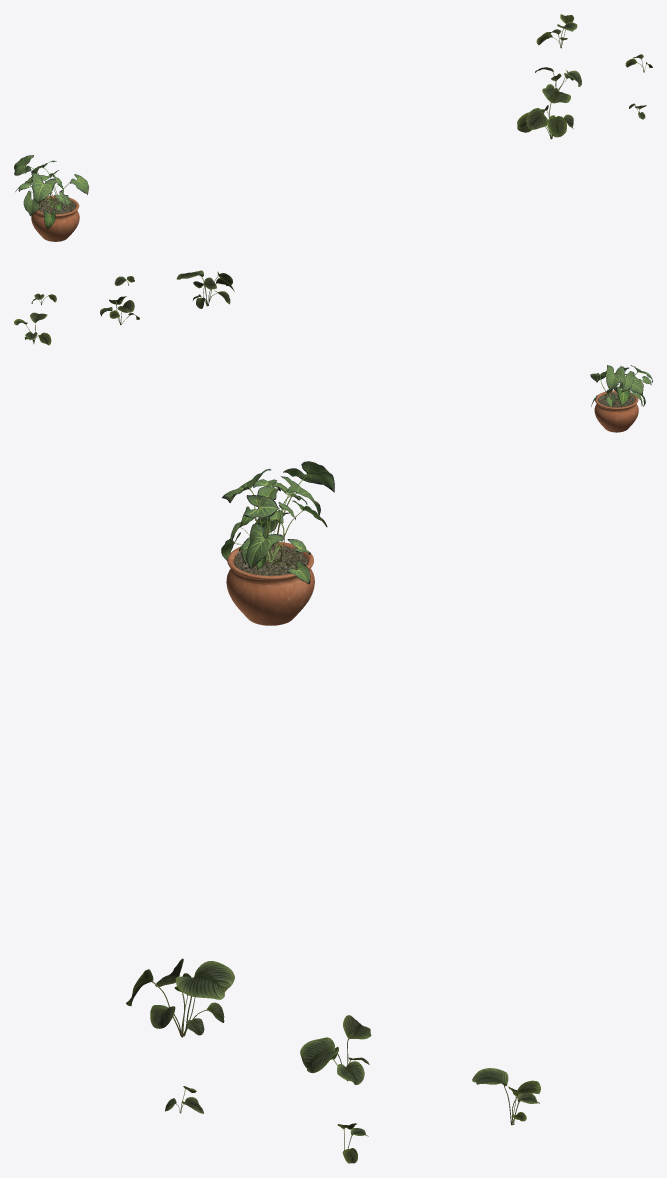
The model's file is room_stocks_props_m.glb.
3 renders of one model, top to bottom at view 1: azimuth 30°, elevation 25°; view 2: azimuth 150°, elevation 25°; view 3: azimuth 270°, elevation 25°, orthographic. The views are drawn at different scales.
Visible parts, largest first — view 1: prop_potted_plant_02_1_potted_plant_02_leaves, prop_calathea_orbifolia_01_2_calathea_orbifolia_01_a, prop_potted_plant_02_1_potted_plant_02_pot, prop_calathea_orbifolia_01_2_calathea_orbifolia_01_c, prop_potted_plant_02_1_potted_plant_02_dirt, prop_calathea_orbifolia_01_2_calathea_orbifolia_01_b; view 2: prop_potted_plant_02_1_potted_plant_02_leaves, prop_potted_plant_02_1_potted_plant_02_pot, prop_calathea_orbifolia_01_2_calathea_orbifolia_01_a, prop_calathea_orbifolia_01_2_calathea_orbifolia_01_b, prop_calathea_orbifolia_01_2_calathea_orbifolia_01_c, prop_potted_plant_02_1_potted_plant_02_dirt; view 3: prop_potted_plant_02_1_potted_plant_02_leaves, prop_potted_plant_02_1_potted_plant_02_pot, prop_calathea_orbifolia_01_2_calathea_orbifolia_01_a, prop_calathea_orbifolia_01_2_calathea_orbifolia_01_b, prop_calathea_orbifolia_01_2_calathea_orbifolia_01_c, prop_potted_plant_02_1_potted_plant_02_dirt.
Boxes of the visible parts, x1,y1,x2,y2 form: prop_potted_plant_02_1_potted_plant_02_leaves: (14,155,88,229); prop_calathea_orbifolia_01_2_calathea_orbifolia_01_a: (517,87,573,139); prop_potted_plant_02_1_potted_plant_02_pot: (31,195,79,241); prop_calathea_orbifolia_01_2_calathea_orbifolia_01_c: (536,14,577,48); prop_potted_plant_02_1_potted_plant_02_dirt: (38,197,75,214); prop_calathea_orbifolia_01_2_calathea_orbifolia_01_b: (535,67,581,91); prop_potted_plant_02_1_potted_plant_02_leaves: (590,365,652,407); prop_potted_plant_02_1_potted_plant_02_pot: (594,390,638,432); prop_calathea_orbifolia_01_2_calathea_orbifolia_01_a: (176,270,234,308); prop_calathea_orbifolia_01_2_calathea_orbifolia_01_b: (100,296,139,325); prop_calathea_orbifolia_01_2_calathea_orbifolia_01_c: (14,312,51,345); prop_potted_plant_02_1_potted_plant_02_dirt: (598,392,635,407); prop_potted_plant_02_1_potted_plant_02_leaves: (221,461,334,584); prop_potted_plant_02_1_potted_plant_02_pot: (226,541,314,625); prop_calathea_orbifolia_01_2_calathea_orbifolia_01_a: (126,958,234,1037); prop_calathea_orbifolia_01_2_calathea_orbifolia_01_b: (300,1015,371,1084); prop_calathea_orbifolia_01_2_calathea_orbifolia_01_c: (472,1068,540,1125); prop_potted_plant_02_1_potted_plant_02_dirt: (233,545,307,575).
Bounding box in the file's own units: 7.78 × 0.8833 × 2.33.
3 materials, 3 textured.
